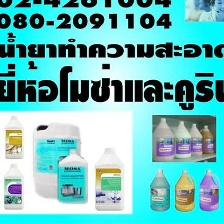cleaning_solution: (28, 118, 82, 201), (92, 145, 126, 211), (55, 147, 89, 206), (0, 162, 25, 210), (147, 167, 172, 214), (197, 166, 221, 213), (150, 117, 175, 162), (2, 112, 24, 163), (173, 167, 196, 214), (170, 119, 193, 160), (184, 122, 203, 158), (198, 124, 214, 157)
